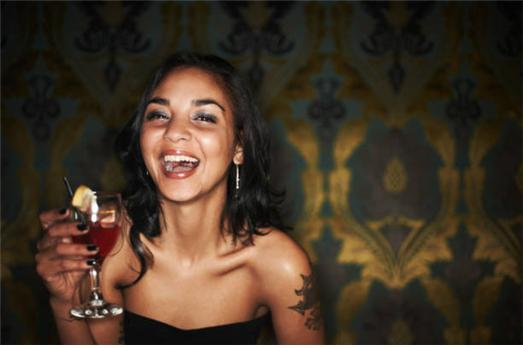alcohol: (63, 196, 125, 321)
